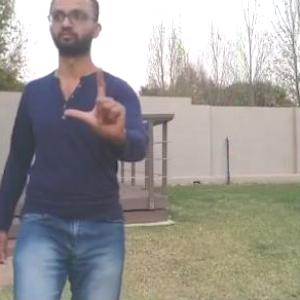land_hand: (62, 63, 132, 145)
